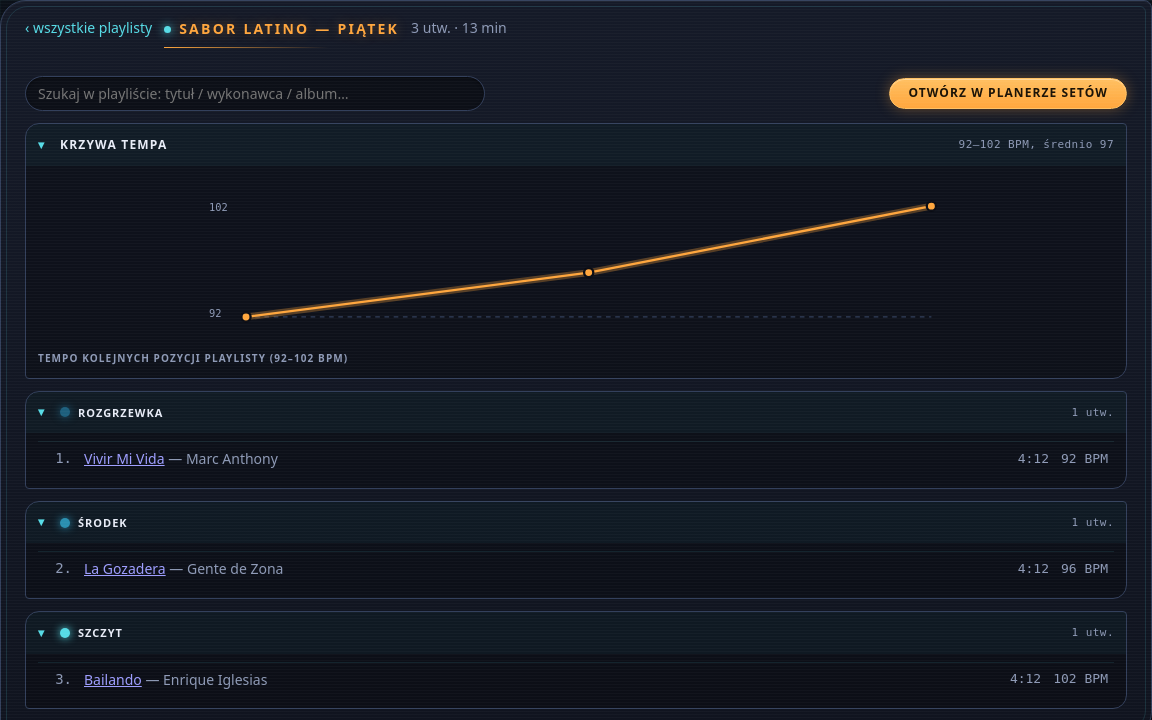
Test: PlaylistsRoute › utwory idą do zwijanych sekcji faz wieczoru
Expected: the link "Bailando" is shown, [84, 670, 142, 689]
What coordinates should you click on to do the following:
click the button "▾ szczyt 1 utw."
I would click on:
 (100, 633)
Its box is [26, 612, 1126, 654].
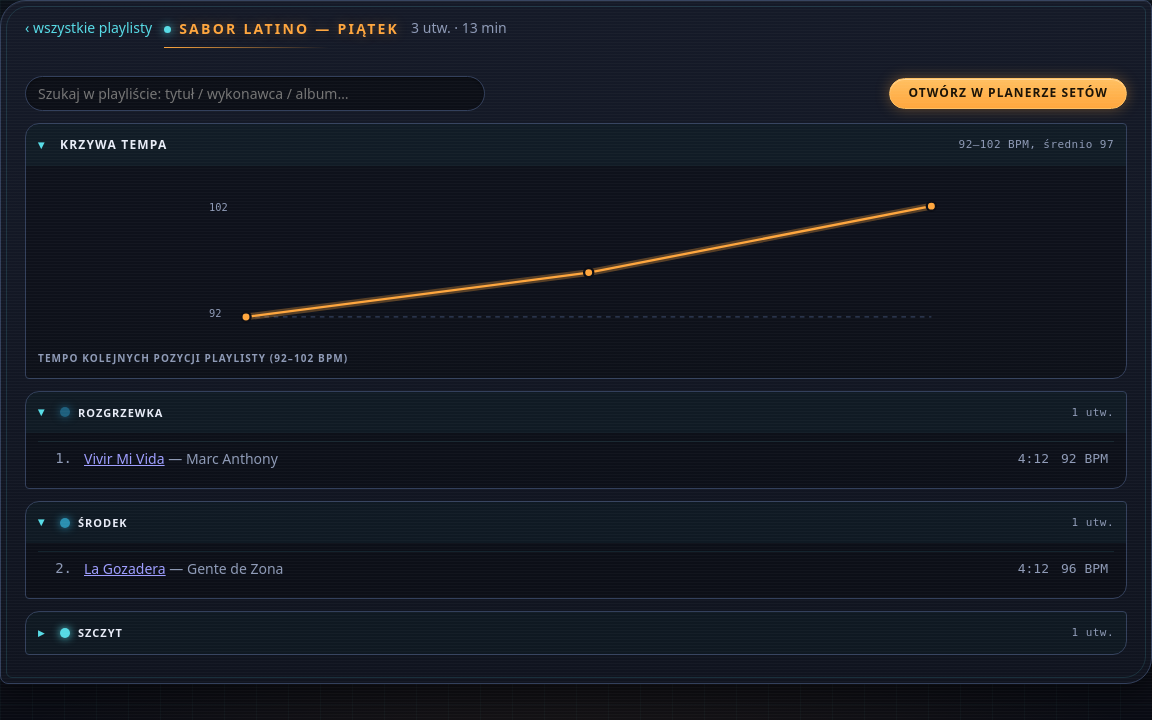
Result: the link "Bailando" is gone
